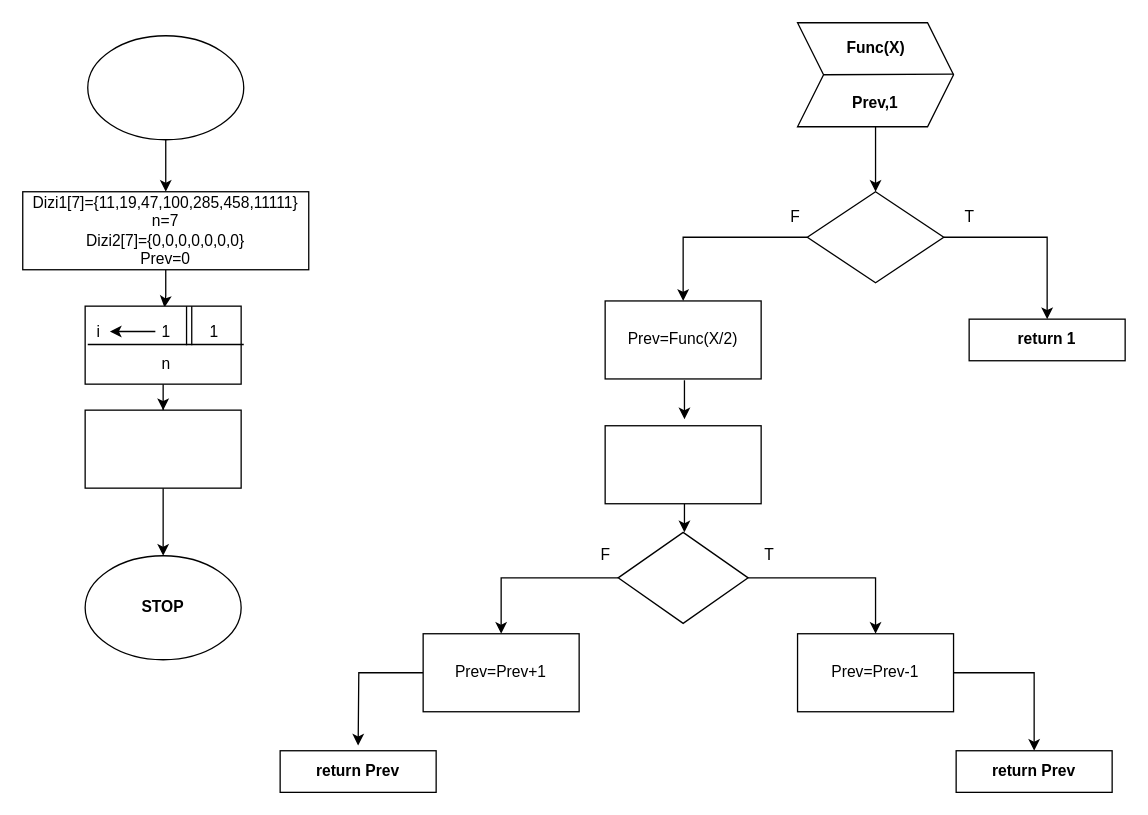
Some shapes in this 1148 by 815 pixel diagram are drawn without their labels. Here are the shapes that lost their labels. From the top down, the box of each, then its label:
(86, 34, 244, 140): START
(806, 190, 944, 283): X=1
(84, 409, 241, 488): Dizi2[i]=Func(Dizi1[i])
(604, 424, 761, 504): Prev=Prev*2
(617, 531, 748, 623): X%2=0
